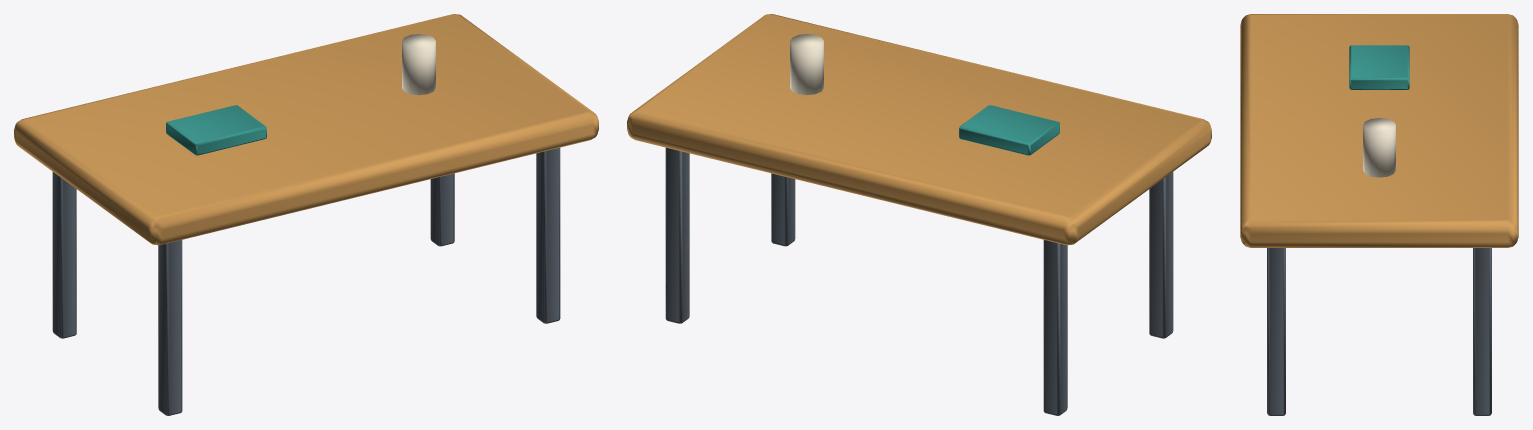
File: shelter-dining-table.glb
3 renders of one model, left to right at view 1: azimuth 30°, elevation 25°; view 2: azimuth 150°, elevation 25°; view 3: azimuth 270°, elevation 25°, orthographic. The views are drawn at different scales.
Parts seen in each view (by area): view 1: interior_1_woodLight.001, interior_1_metal, interior_1_cloth.002, interior_1_ivory.002; view 2: interior_1_woodLight.001, interior_1_metal, interior_1_cloth.002, interior_1_ivory.002; view 3: interior_1_woodLight.001, interior_1_metal, interior_1_cloth.002, interior_1_ivory.002.
Boxes of the visible parts, left/top/right/bottom form: interior_1_woodLight.001: left=14, top=14, right=598, bottom=245; interior_1_metal: left=52, top=147, right=560, bottom=415; interior_1_cloth.002: left=166, top=105, right=266, bottom=155; interior_1_ivory.002: left=402, top=34, right=435, bottom=95; interior_1_woodLight.001: left=627, top=14, right=1211, bottom=245; interior_1_metal: left=665, top=147, right=1173, bottom=415; interior_1_cloth.002: left=959, top=105, right=1059, bottom=155; interior_1_ivory.002: left=790, top=34, right=823, bottom=95; interior_1_woodLight.001: left=1240, top=14, right=1518, bottom=247; interior_1_metal: left=1267, top=248, right=1491, bottom=415; interior_1_cloth.002: left=1349, top=45, right=1409, bottom=89; interior_1_ivory.002: left=1363, top=118, right=1395, bottom=177.
Bounding box in the file's own units: 2 × 1.1 × 1.1.
